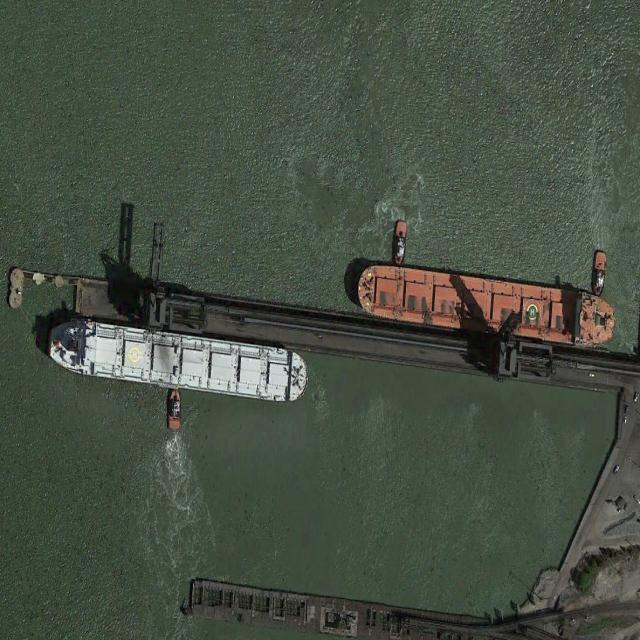Cargo: (45, 315, 311, 407), (354, 260, 616, 349)
Hovercraft: (589, 248, 608, 297), (393, 218, 408, 266), (168, 389, 181, 430)
